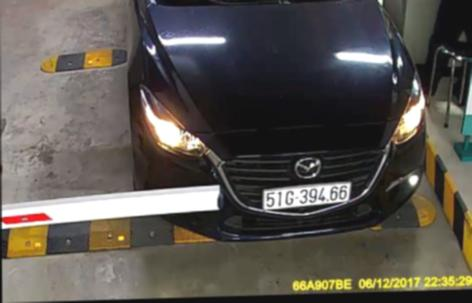License_Plate: (258, 178, 356, 213)
